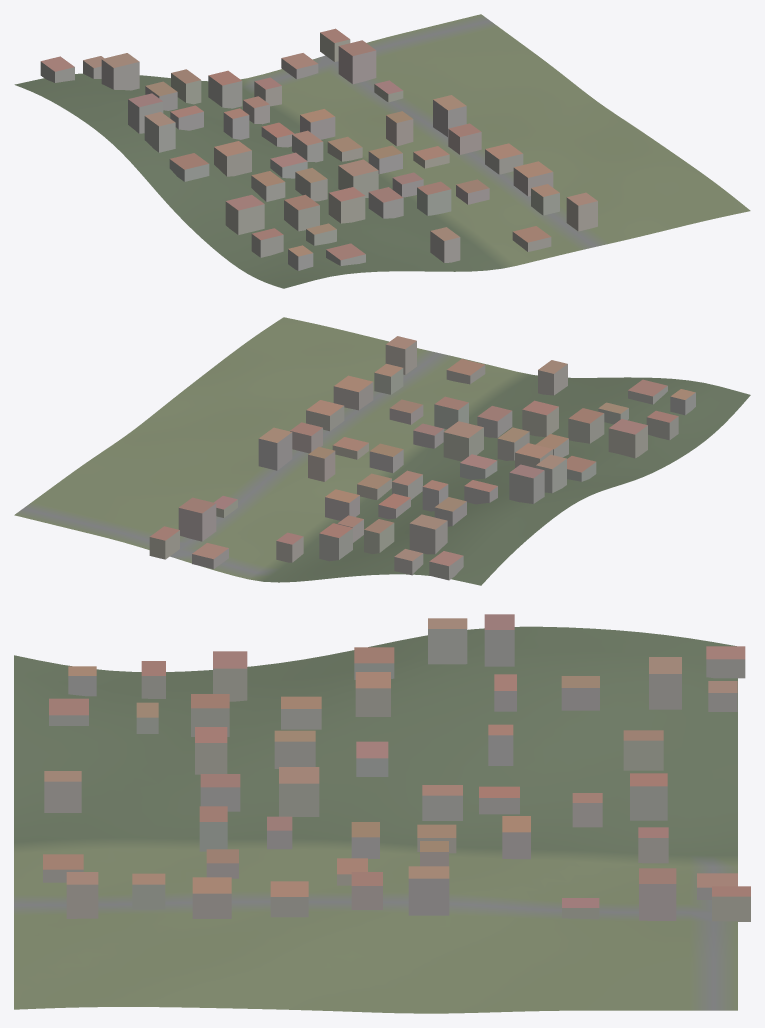
3 views of the same model, one above another, from view 1: azimuth 30°, elevation 25°; view 2: azimuth 150°, elevation 25°; view 3: azimuth 270°, elevation 25° (orthographic). The views are drawn at different scales.
Size of the model in its own units: 300 by 54.93 by 305.
